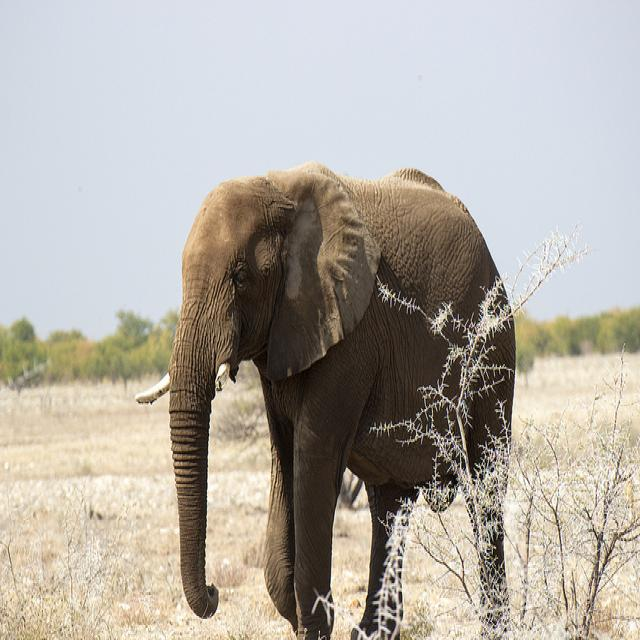Elephant: (134, 159, 516, 638)
